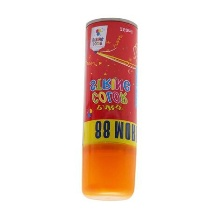aerosol_cans: (77, 14, 142, 207)
